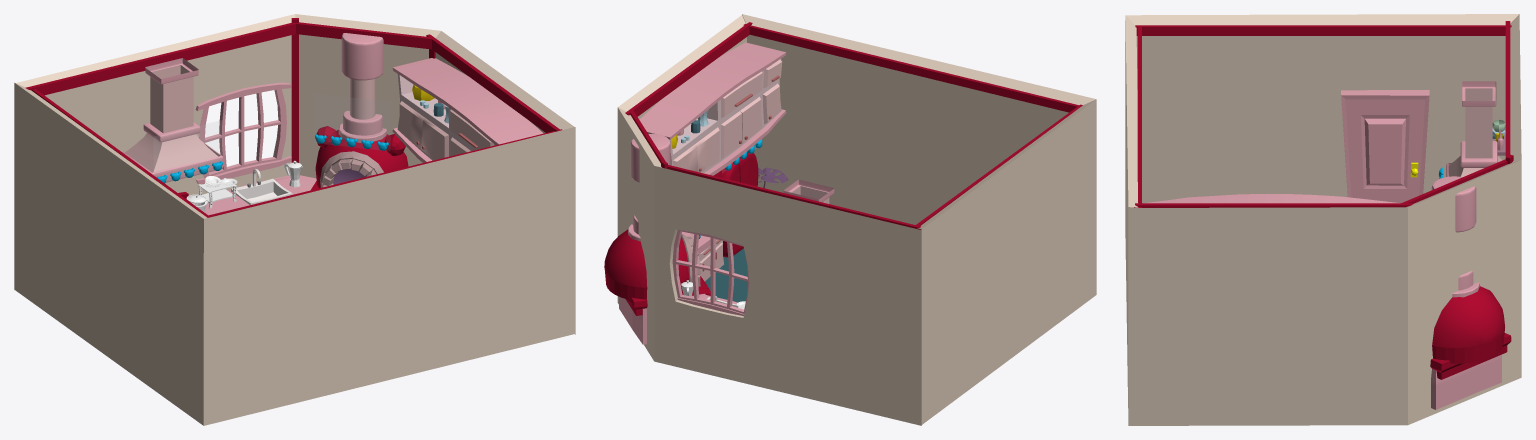
File: kitche_v06.fbx
3 views of the same model, side by side, from view 1: azimuth 30°, elevation 25°; view 2: azimuth 150°, elevation 25°; view 3: azimuth 270°, elevation 25° (orthographic). The views are drawn at different scales.
Parts seen in each view (by area): view 1: wall2, wall1, molding1, storage_upper, pCylinder26, score_3 (×2), hood_body, window2, hood_popout, sink, storage_L, shelf; view 2: wall2, wall1, storage_upper, molding1, pCylinder26, window2, floor, refri_door, storage_door_L, storage_R, storage_door_R, hood_popout; view 3: wall1, wall2, door_body, pCylinder26, molding1, hood_body, storage_upper, hood_popout, shelf_3.
Part boxes in pixels (x1,y1,x2,y2): wall2: [14, 82, 575, 425]; wall1: [14, 14, 575, 334]; molding1: [25, 18, 561, 217]; storage_upper: [392, 58, 543, 162]; pCylinder26: [310, 33, 408, 190]; score_3 (×2): [154, 94, 389, 182]; hood_body: [125, 65, 217, 172]; window2: [195, 82, 291, 184]; hood_popout: [122, 58, 223, 182]; sink: [231, 169, 292, 204]; storage_L: [205, 175, 316, 215]; shelf: [198, 178, 236, 208]; wall2: [742, 14, 1096, 424]; wall1: [617, 15, 921, 425]; storage_upper: [639, 42, 786, 175]; molding1: [625, 22, 1082, 229]; pCylinder26: [604, 133, 710, 344]; window2: [672, 229, 749, 315]; floor: [705, 248, 747, 302]; refri_door: [719, 151, 758, 186]; storage_door_L: [721, 111, 742, 159]; storage_R: [681, 231, 723, 281]; storage_door_R: [740, 96, 761, 143]; hood_popout: [783, 179, 834, 202]; wall1: [1128, 15, 1521, 425]; wall2: [1125, 14, 1519, 407]; door_body: [1341, 90, 1429, 203]; pCylinder26: [1430, 176, 1511, 409]; molding1: [1134, 21, 1513, 207]; hood_body: [1448, 88, 1502, 176]; storage_upper: [1144, 194, 1399, 203]; hood_popout: [1446, 81, 1497, 176]; shelf_3: [1492, 120, 1505, 155].
Size of the model in its own units: 3896 by 2060 by 3378.
